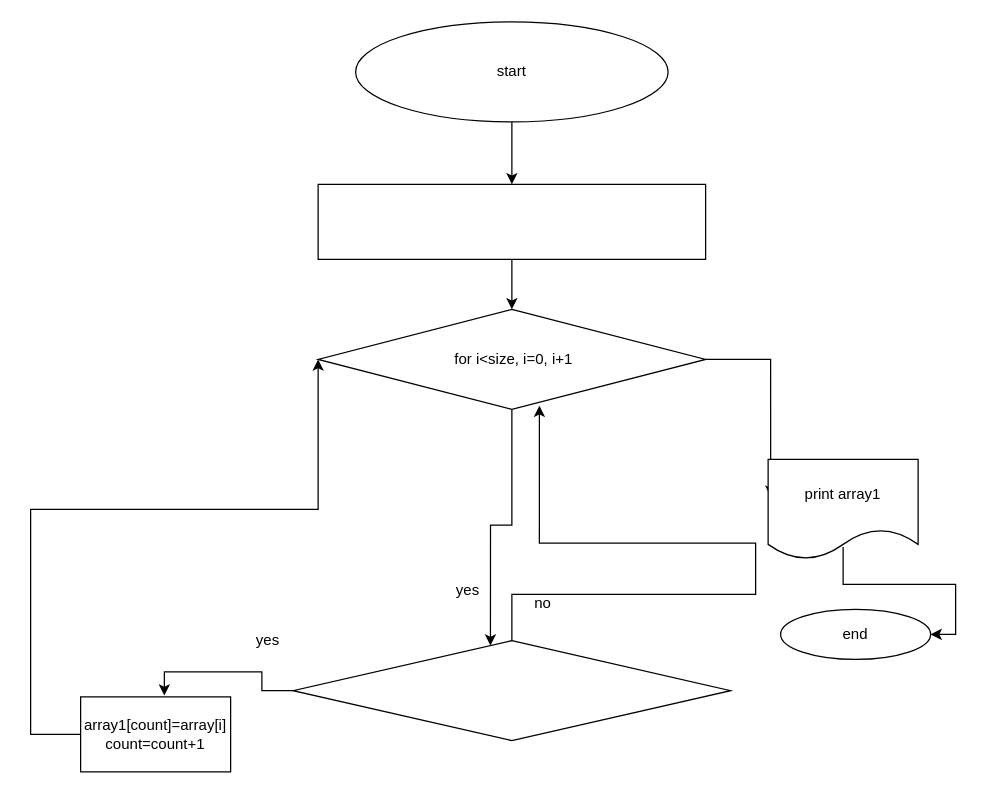
Some shapes in this 988 by 794 pixel diagram are drawn without their labels. Here are the shapes that lost their labels. From the top down, the centre of each, then its label:
At point 511,221: "string[]array string[]array1 size=array.length count=0".
At point 511,690: "array[i] size<=3".
